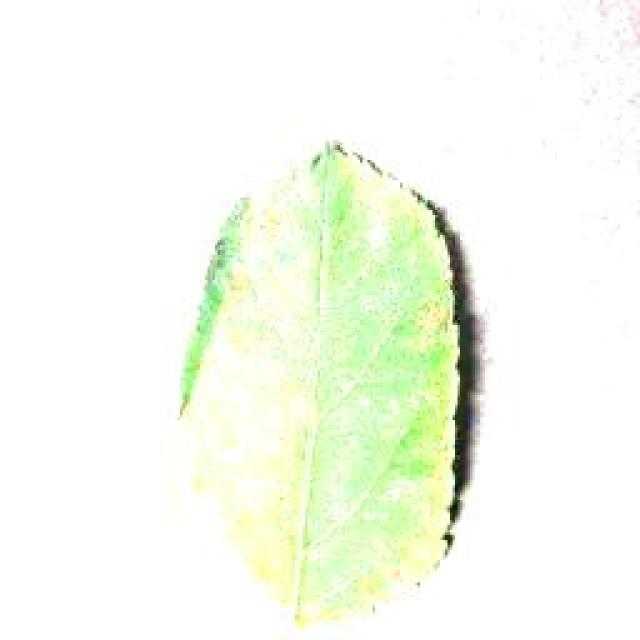apple scab disease: (170, 138, 485, 628)
